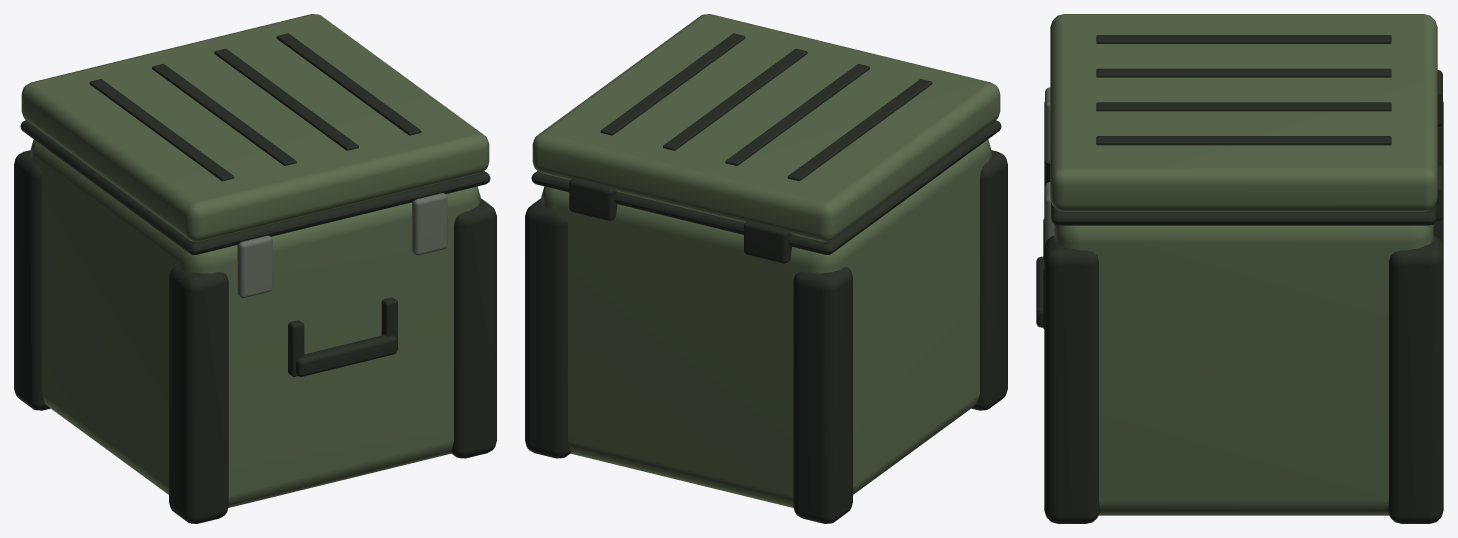
File: supply_case.glb
3 renders of one model, left to right at view 1: azimuth 30°, elevation 25°; view 2: azimuth 150°, elevation 25°; view 3: azimuth 270°, elevation 25°, orthographic. The views are drawn at different scales.
Parts seen in each view (by area): view 1: SupplyCase; view 2: SupplyCase; view 3: SupplyCase.
Part boxes in pixels (x1,y1,x2,y2): SupplyCase: (14, 14, 496, 523); SupplyCase: (525, 14, 1007, 523); SupplyCase: (1036, 14, 1443, 523).
Bounding box in the file's own units: 1 × 0.983 × 1.02.
